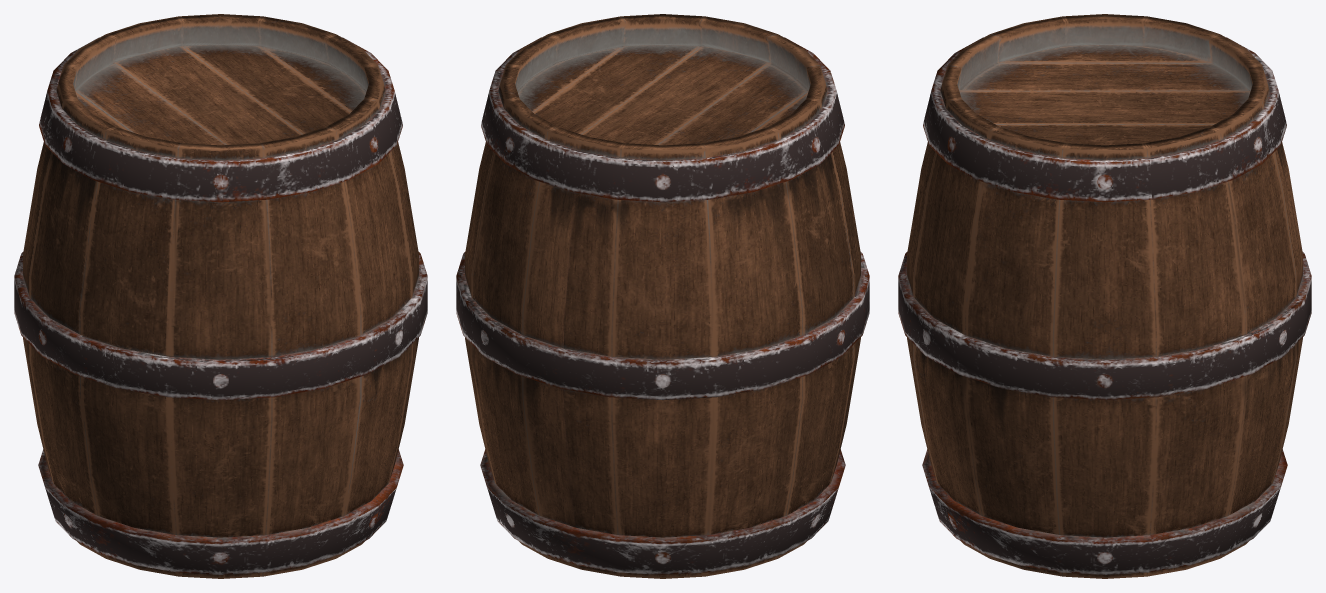
File: DSBarrel.obj
3 views of the same model, side by side, from view 1: azimuth 30°, elevation 25°; view 2: azimuth 150°, elevation 25°; view 3: azimuth 270°, elevation 25° (orthographic).
Parts seen in each view (by area): view 1: BarrelSmartMat; view 2: BarrelSmartMat; view 3: BarrelSmartMat.
Boxes of the visible parts, bbox=[...] form: BarrelSmartMat: bbox=[14, 14, 427, 578]; BarrelSmartMat: bbox=[456, 14, 869, 578]; BarrelSmartMat: bbox=[898, 14, 1311, 578].
Bounding box in the file's own units: 5.18 × 5.91 × 5.18.
